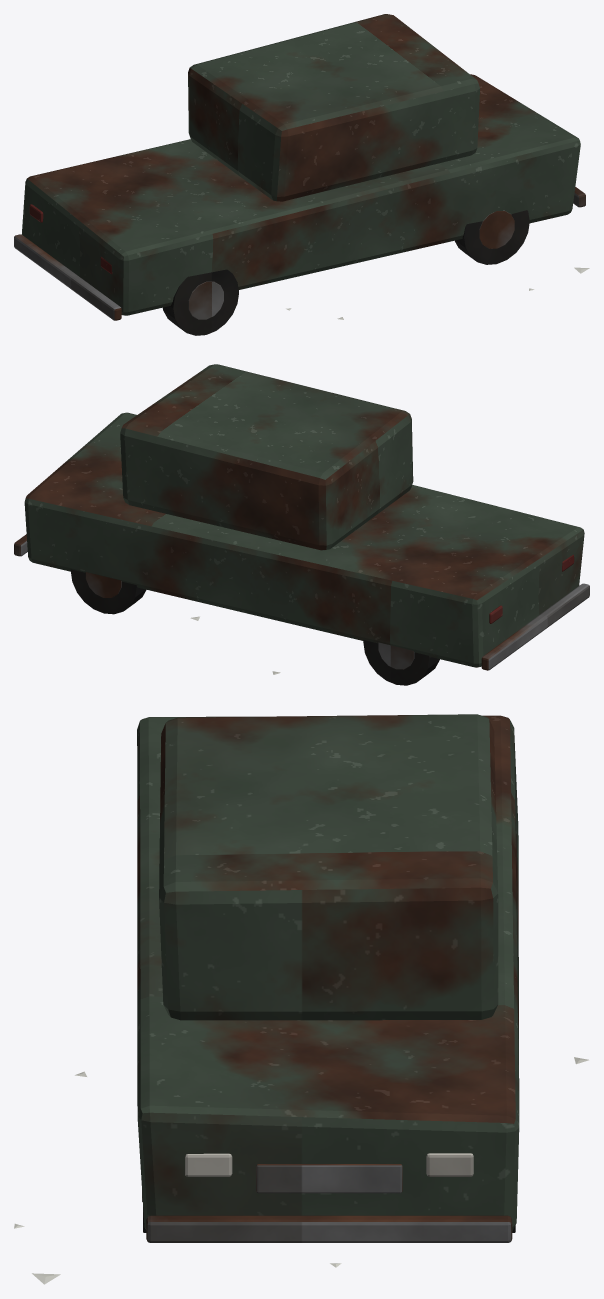
File: JV01_crashed_car_front_v2.glb
3 renders of one model, top to bottom at view 1: azimuth 30°, elevation 25°; view 2: azimuth 150°, elevation 25°; view 3: azimuth 270°, elevation 25°, orthographic. The views are drawn at different scales.
Visible parts, largest first — view 1: JV01_crashed_car_front_v2; view 2: JV01_crashed_car_front_v2; view 3: JV01_crashed_car_front_v2.
Boxes of the visible parts, x1,y1,x2,y2 form: JV01_crashed_car_front_v2: (14,14,589,335); JV01_crashed_car_front_v2: (14,364,589,685); JV01_crashed_car_front_v2: (14,714,588,1284).
Bounding box in the file's own units: 4.4 × 1.65 × 2.57.
Materials: 6 (6 with a texture image).
